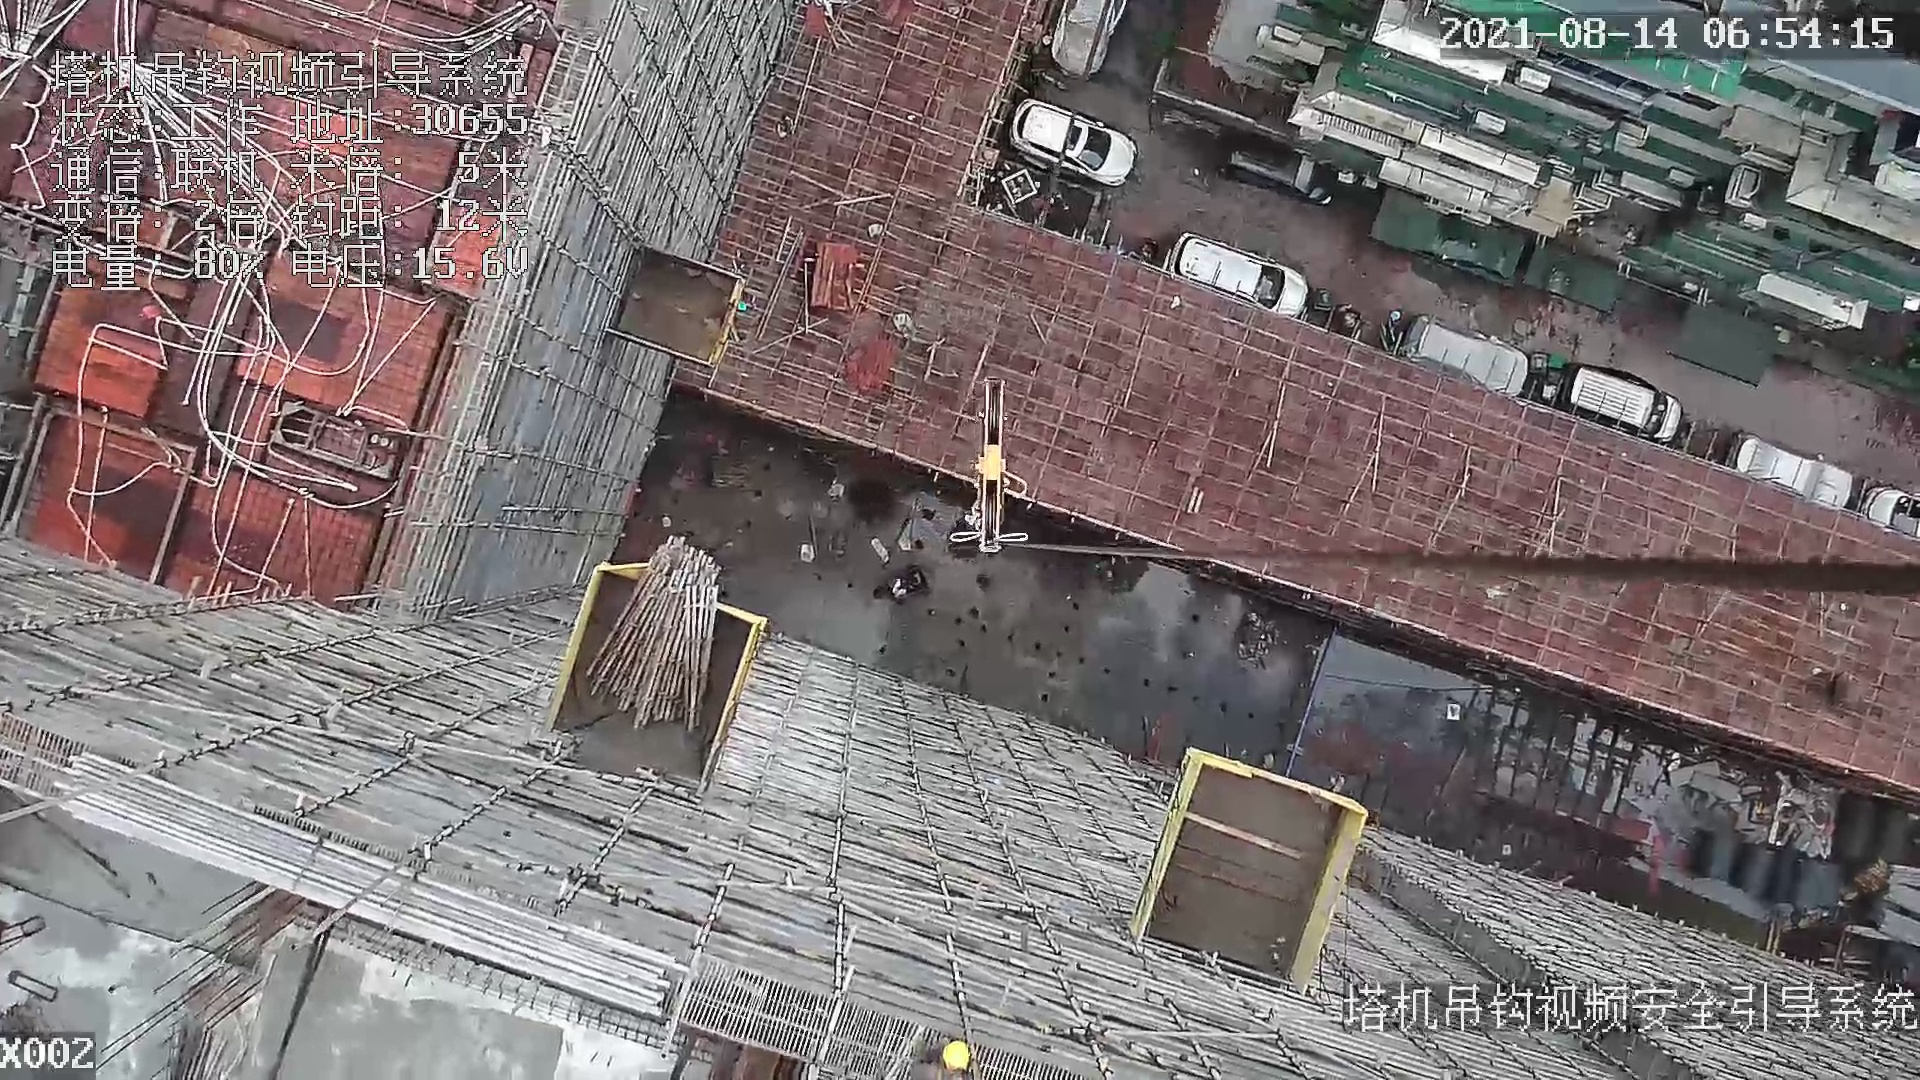helmet: (942, 1040, 970, 1070)
hook: (968, 380, 1035, 554)
person: (908, 1035, 974, 1080)
rebar: (54, 758, 666, 1020)
scaffold: (589, 536, 718, 732)
